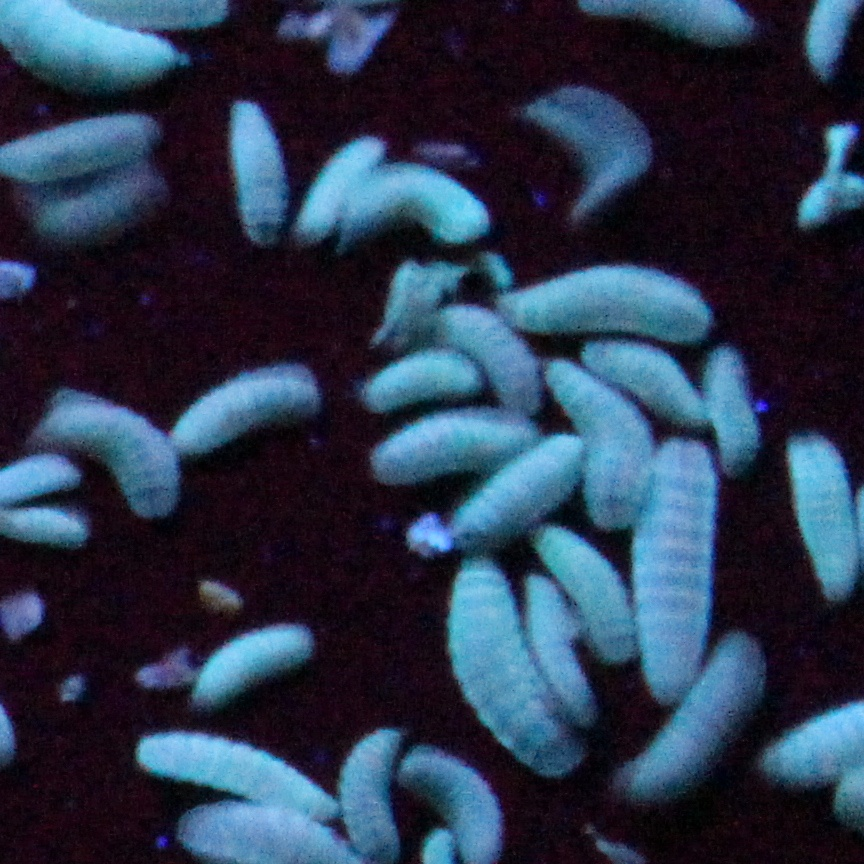larve: (612, 646, 770, 805), (442, 561, 560, 771), (130, 735, 337, 825), (50, 389, 168, 520), (175, 359, 317, 459), (453, 435, 575, 548), (645, 441, 698, 692), (363, 417, 519, 500), (512, 276, 704, 343), (781, 430, 852, 602), (30, 164, 165, 248), (525, 574, 598, 727), (345, 166, 494, 240), (191, 613, 309, 704), (437, 305, 539, 408), (299, 131, 386, 249), (220, 99, 284, 241), (561, 551, 634, 666), (596, 345, 699, 420), (704, 343, 758, 472), (353, 349, 486, 400), (580, 420, 632, 523)
